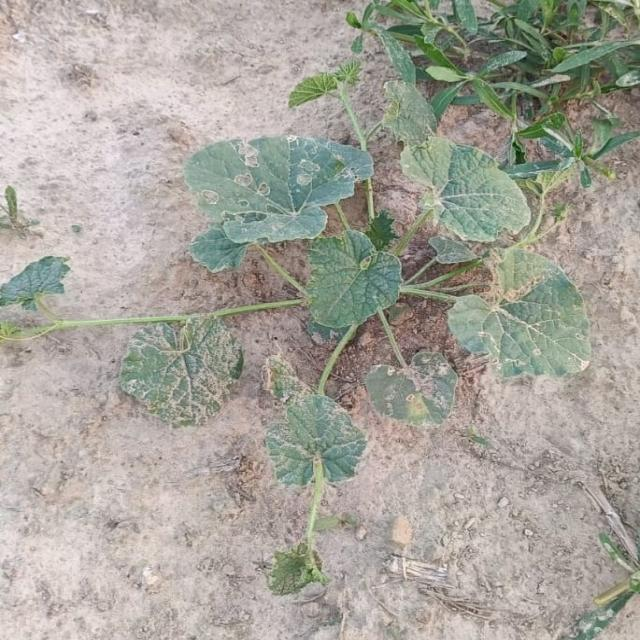plant: (3, 81, 590, 592), (0, 256, 68, 308)
